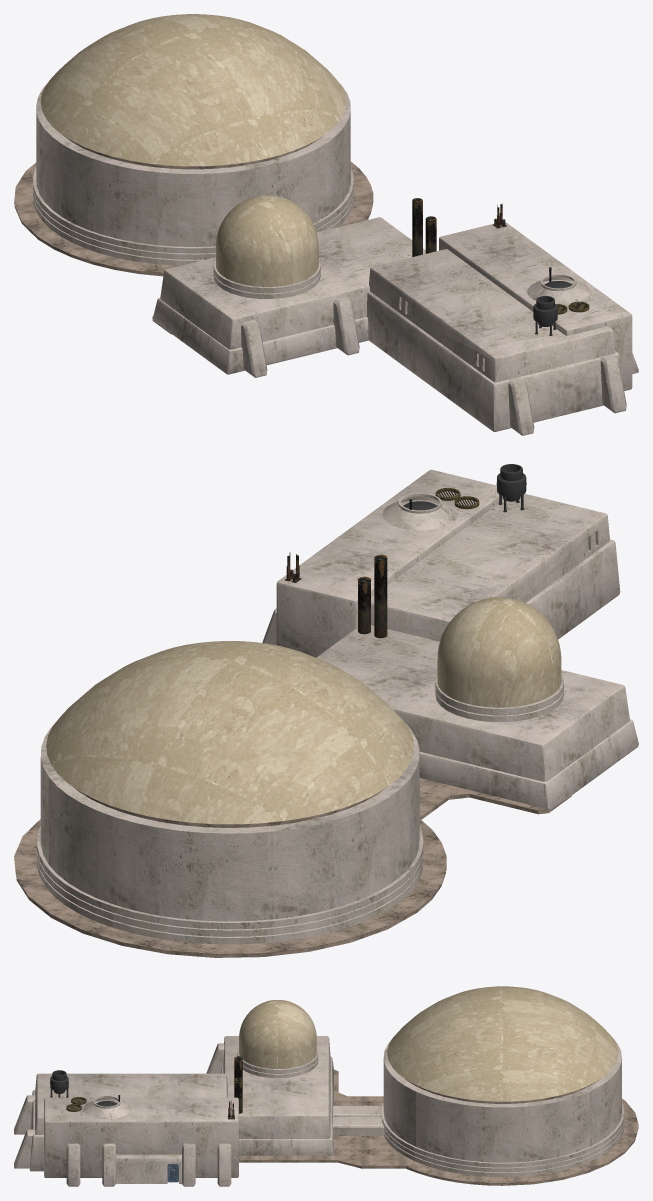
File: Edificio4.FBX
3 renders of one model, top to bottom at view 1: azimuth 30°, elevation 25°; view 2: azimuth 150°, elevation 25°; view 3: azimuth 270°, elevation 25°, orthographic. The views are drawn at different scales.
Parts seen in each view (by area): view 1: Sphere10, Cylinder13, ChamferBo6, ChamferBo2, ChamferBox, ChamferBo0, Sphere01, ChamferBo1, Line09, Cylinder12, Cylinder14, Cylinder03 (+8 smaller); view 2: Sphere10, Cylinder13, ChamferBo2, ChamferBo6, ChamferBo0, Sphere01, Line09, ChamferBo1, ChamferBox, Cylinder12, Cylinder03, Cylinder14 (+5 smaller); view 3: Sphere10, Cylinder13, ChamferBo0, ChamferBo2, Line09, ChamferBo6, Sphere01, ChamferBo1, ChamferBo3, Cylinder12, Cylinder14, Cylinder03 (+14 smaller).
Boxes of the visible parts, x1=… form: Sphere10: x1=40, y1=14, x2=346, y2=166; Cylinder13: x1=36, y1=83, x2=350, y2=246; ChamferBo6: x1=369, y1=249, x2=615, y2=382; ChamferBo2: x1=160, y1=217, x2=425, y2=349; ChamferBox: x1=367, y1=291, x2=621, y2=431; ChamferBo0: x1=439, y1=222, x2=632, y2=390; Sphere01: x1=216, y1=195, x2=318, y2=286; ChamferBo1: x1=153, y1=298, x2=368, y2=374; Line09: x1=14, y1=161, x2=373, y2=334; Cylinder12: x1=33, y1=167, x2=353, y2=253; Cylinder14: x1=33, y1=184, x2=353, y2=259; Cylinder03: x1=33, y1=190, x2=353, y2=265; Sphere10: x1=46, y1=641, x2=414, y2=824; Cylinder13: x1=40, y1=723, x2=419, y2=921; ChamferBo2: x1=316, y1=625, x2=629, y2=781; ChamferBo6: x1=371, y1=494, x2=609, y2=641; ChamferBo0: x1=276, y1=469, x2=503, y2=657; Sphere01: x1=437, y1=597, x2=561, y2=707; Line09: x1=14, y1=778, x2=571, y2=957; ChamferBo1: x1=419, y1=719, x2=638, y2=810; ChamferBox: x1=526, y1=539, x2=620, y2=639; Cylinder12: x1=37, y1=826, x2=423, y2=929; Cylinder03: x1=37, y1=857, x2=423, y2=944; Cylinder14: x1=37, y1=849, x2=423, y2=936; Sphere10: x1=387, y1=986, x2=618, y2=1101; Cylinder13: x1=383, y1=1039, x2=621, y2=1162; ChamferBo0: x1=44, y1=1097, x2=238, y2=1177; ChamferBo2: x1=223, y1=1036, x2=330, y2=1138; Line09: x1=239, y1=1069, x2=638, y2=1185; ChamferBo6: x1=35, y1=1073, x2=227, y2=1134; Sphere01: x1=239, y1=1000, x2=316, y2=1068; ChamferBo1: x1=220, y1=1056, x2=333, y2=1155; ChamferBo3: x1=115, y1=1154, x2=182, y2=1184; Cylinder12: x1=381, y1=1103, x2=624, y2=1167; Cylinder14: x1=384, y1=1118, x2=624, y2=1172; Cylinder03: x1=384, y1=1123, x2=624, y2=1176.
Size of what is drawn, in the model's own units: 5771 by 2986 by 13113.
Materials: 7 (6 with a texture image).
